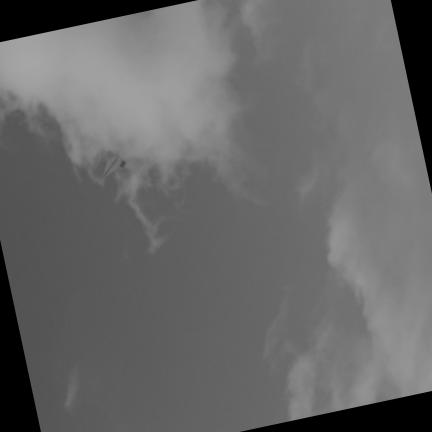Shahed: (100, 148, 126, 183)
